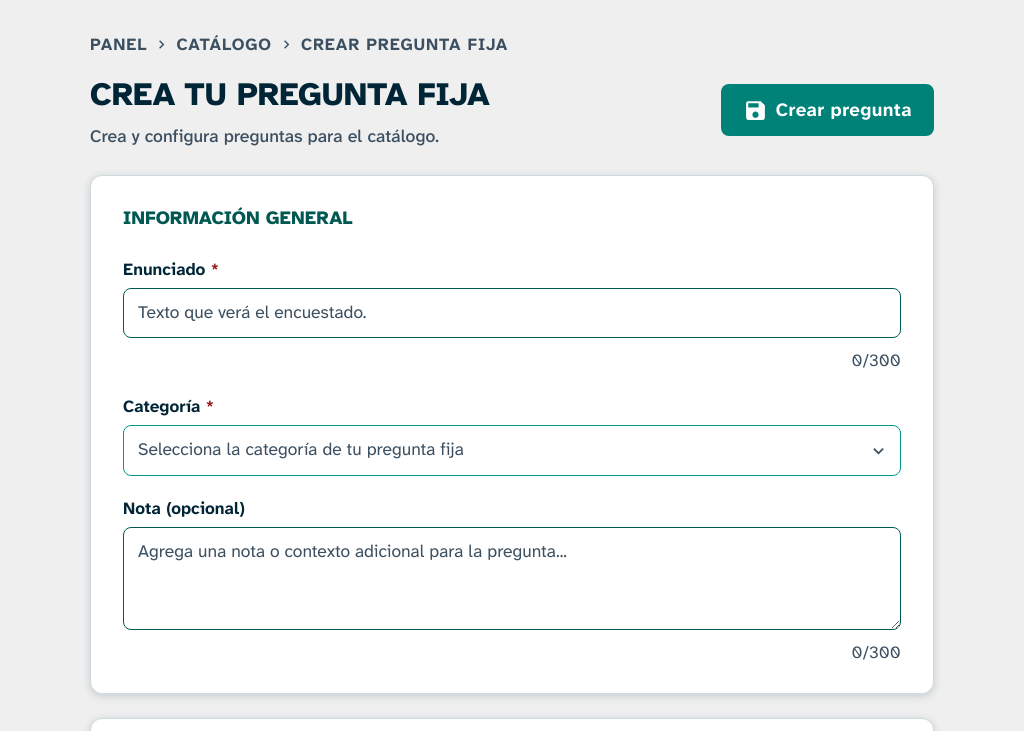
pantallas de creación del catálogo › valida el enunciado antes de crear una pregunta fija
This screenshot has width=1024, height=731.
Step 1. Click the button "Crear pregunta" → x=827, y=110, box [721, 84, 934, 136]
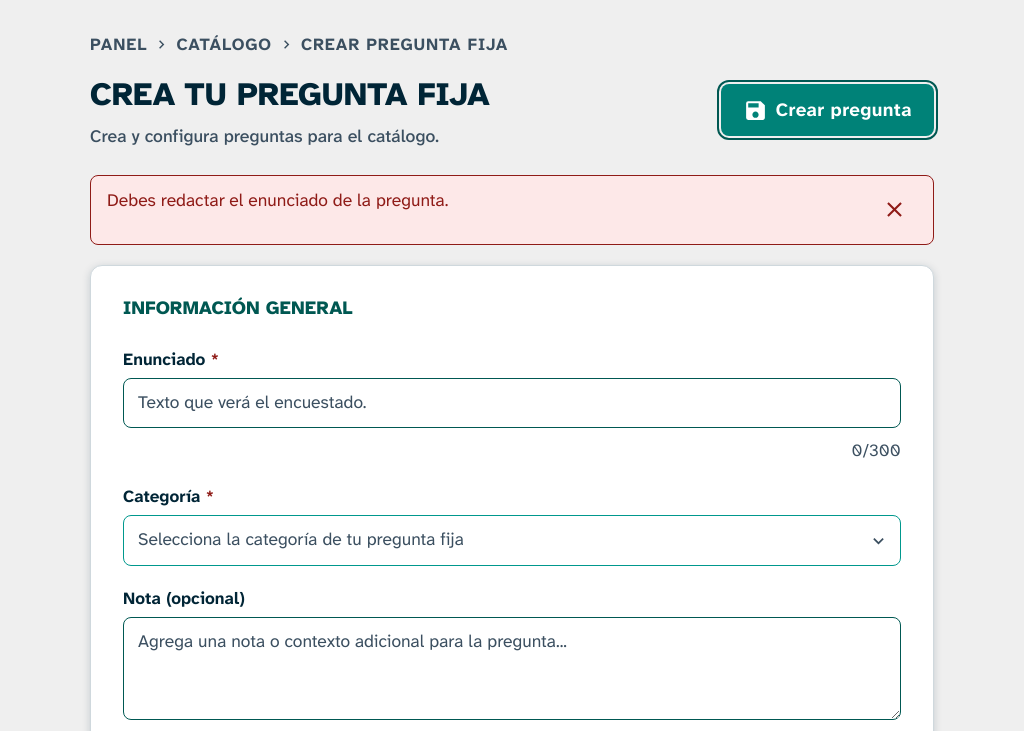
Expected: the message reads "Debes redactar el enunciado de la pregunta.", [107, 188, 448, 212]
